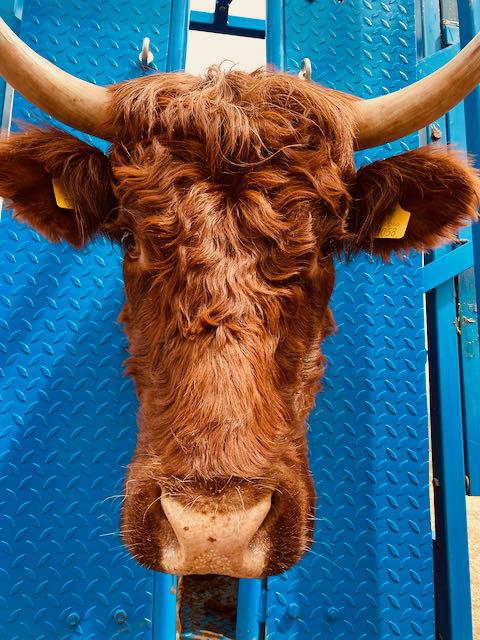muzzles: (110, 474, 313, 593)
